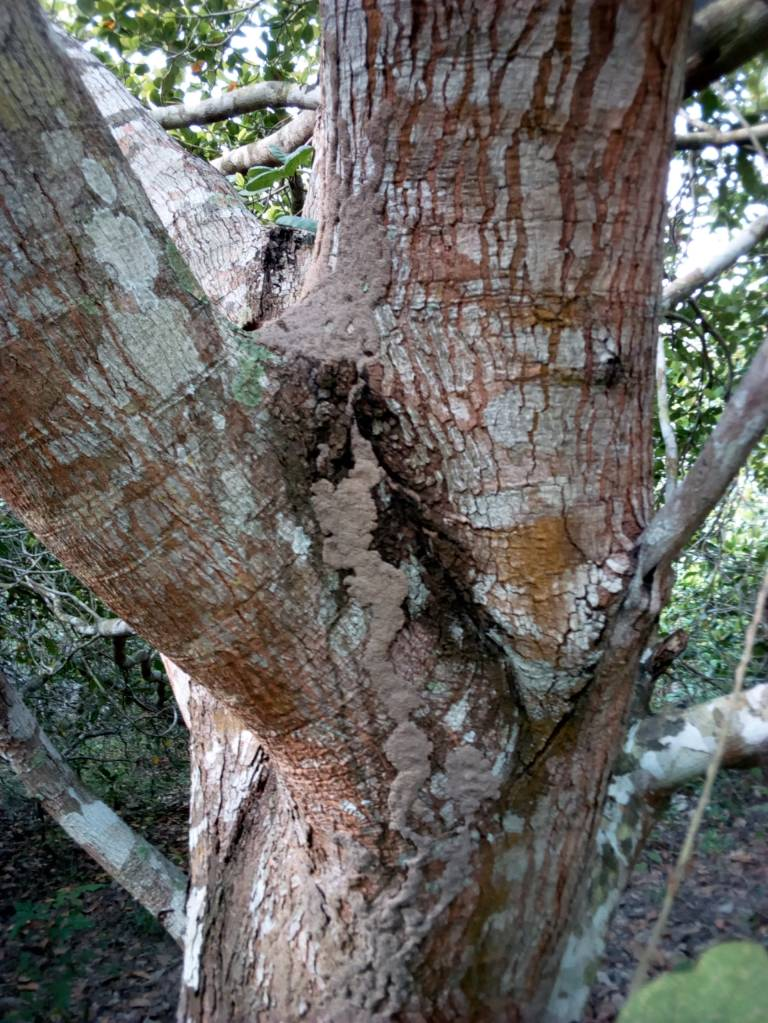Termites: (318, 441, 477, 1023), (255, 146, 394, 364)
